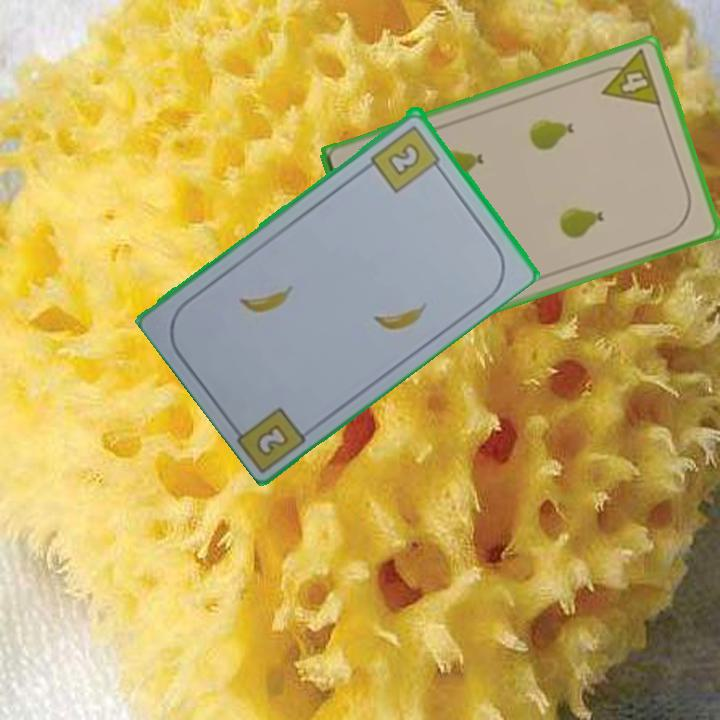2b: (367, 121, 446, 195), (252, 420, 292, 459)
4p: (592, 46, 664, 109)
